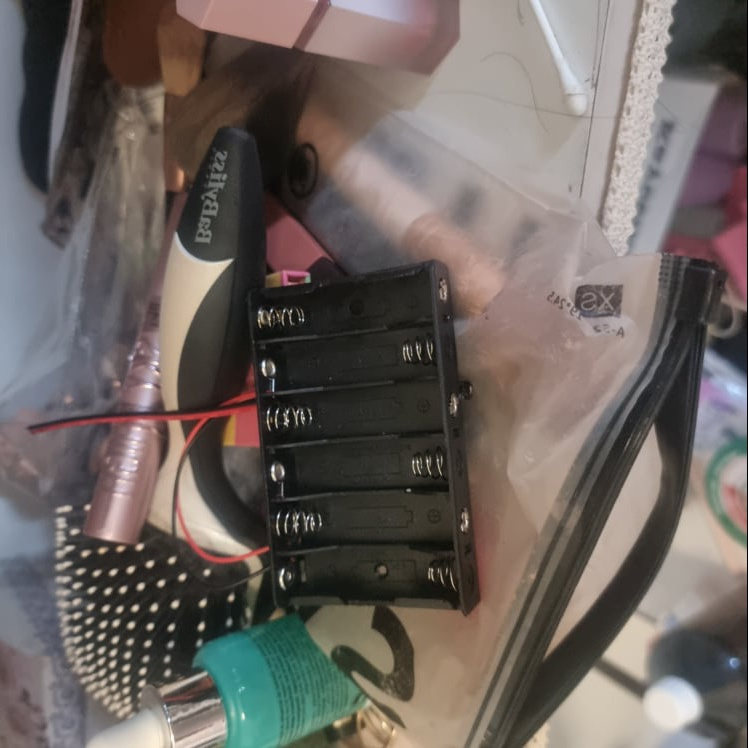BATTERY BOX: (249, 260, 484, 619)
